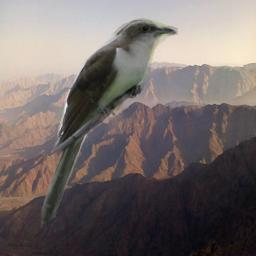Cuckoo: (34, 17, 178, 232)
